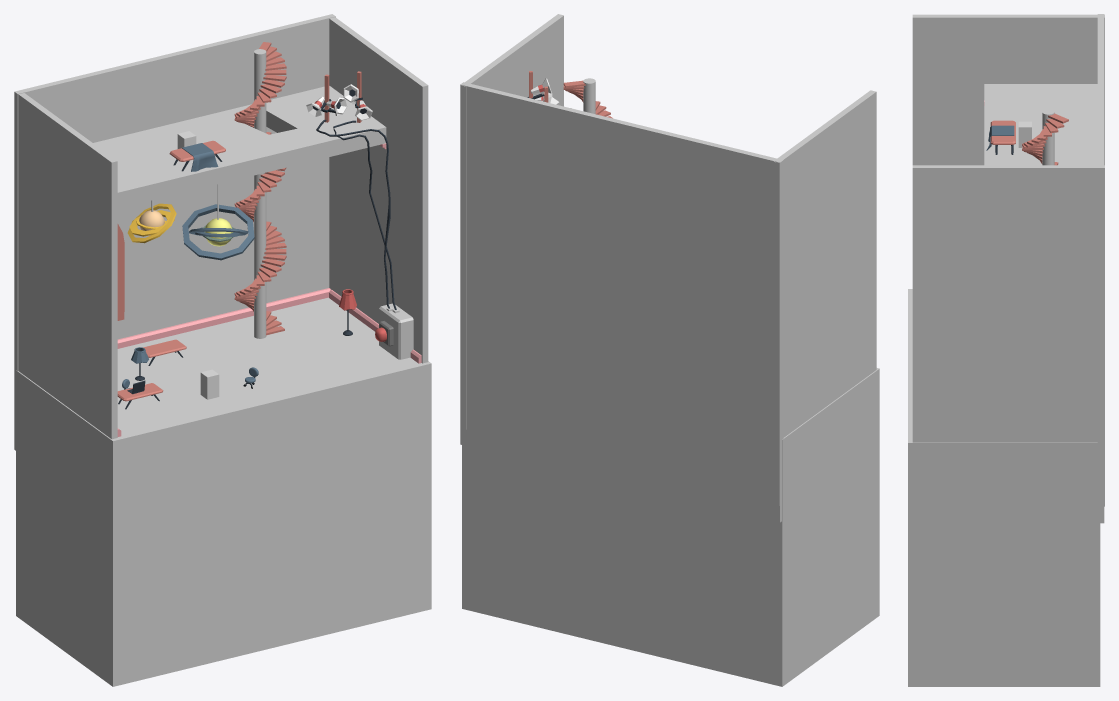
3 renders of one model, left to right at view 1: azimuth 30°, elevation 25°; view 2: azimuth 150°, elevation 25°; view 3: azimuth 270°, elevation 25°, orthographic.
Visible parts, largest first — view 1: FLOOR, MURS, FLOOR2, colonne, pCube93, BOITIER, pSphere8, polySurface16, sweep1, pCube88; view 2: MURS, FLOOR; view 3: MURS, FLOOR, FLOOR2, colonne, planche, ECHELLE1, pCube88.
Boxes of the visible parts, <box> form: FLOOR: <box>16,297,431,686</box>; MURS: <box>14,14,428,450</box>; FLOOR2: <box>93,86,386,208</box>; colonne: <box>254,49,266,338</box>; pCube93: <box>117,288,330,348</box>; BOITIER: <box>379,303,413,359</box>; pSphere8: <box>182,204,254,260</box>; polySurface16: <box>117,224,124,320</box>; sweep1: <box>316,119,390,308</box>; pCube88: <box>182,143,218,171</box>; MURS: <box>460,14,876,522</box>; FLOOR: <box>462,368,879,686</box>; MURS: <box>912,14,1104,523</box>; FLOOR: <box>908,289,1100,686</box>; FLOOR2: <box>984,84,1097,165</box>; colonne: <box>1042,109,1054,165</box>; planche: <box>990,120,1015,144</box>; ECHELLE1: <box>1018,121,1031,147</box>; pCube88: <box>986,125,1014,150</box>.
Size of the model in its own units: 44.66 by 71.02 by 24.07.
